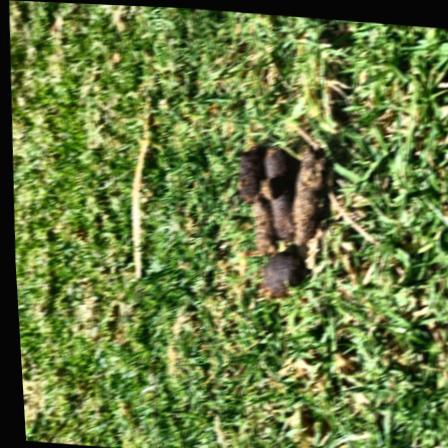dog-poop: (224, 138, 328, 287)
